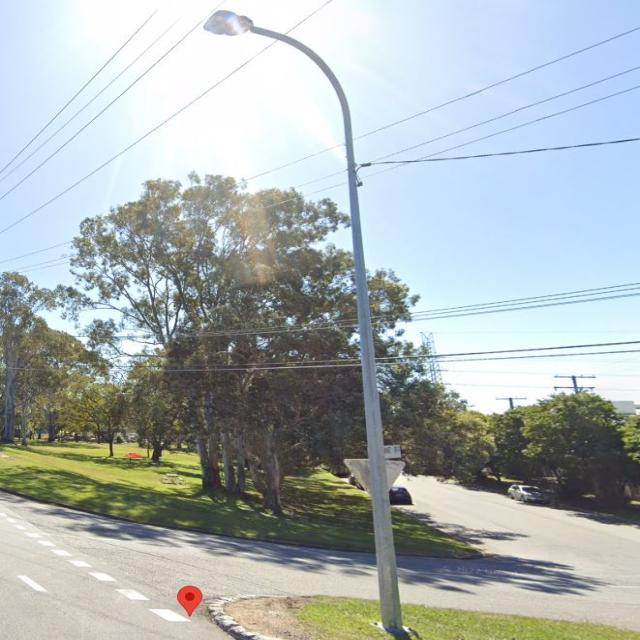crossarm: (552, 375, 596, 380), (553, 385, 594, 390), (494, 396, 527, 401)
steel-pole: (343, 110, 407, 636)
streetlight: (200, 9, 352, 115)
